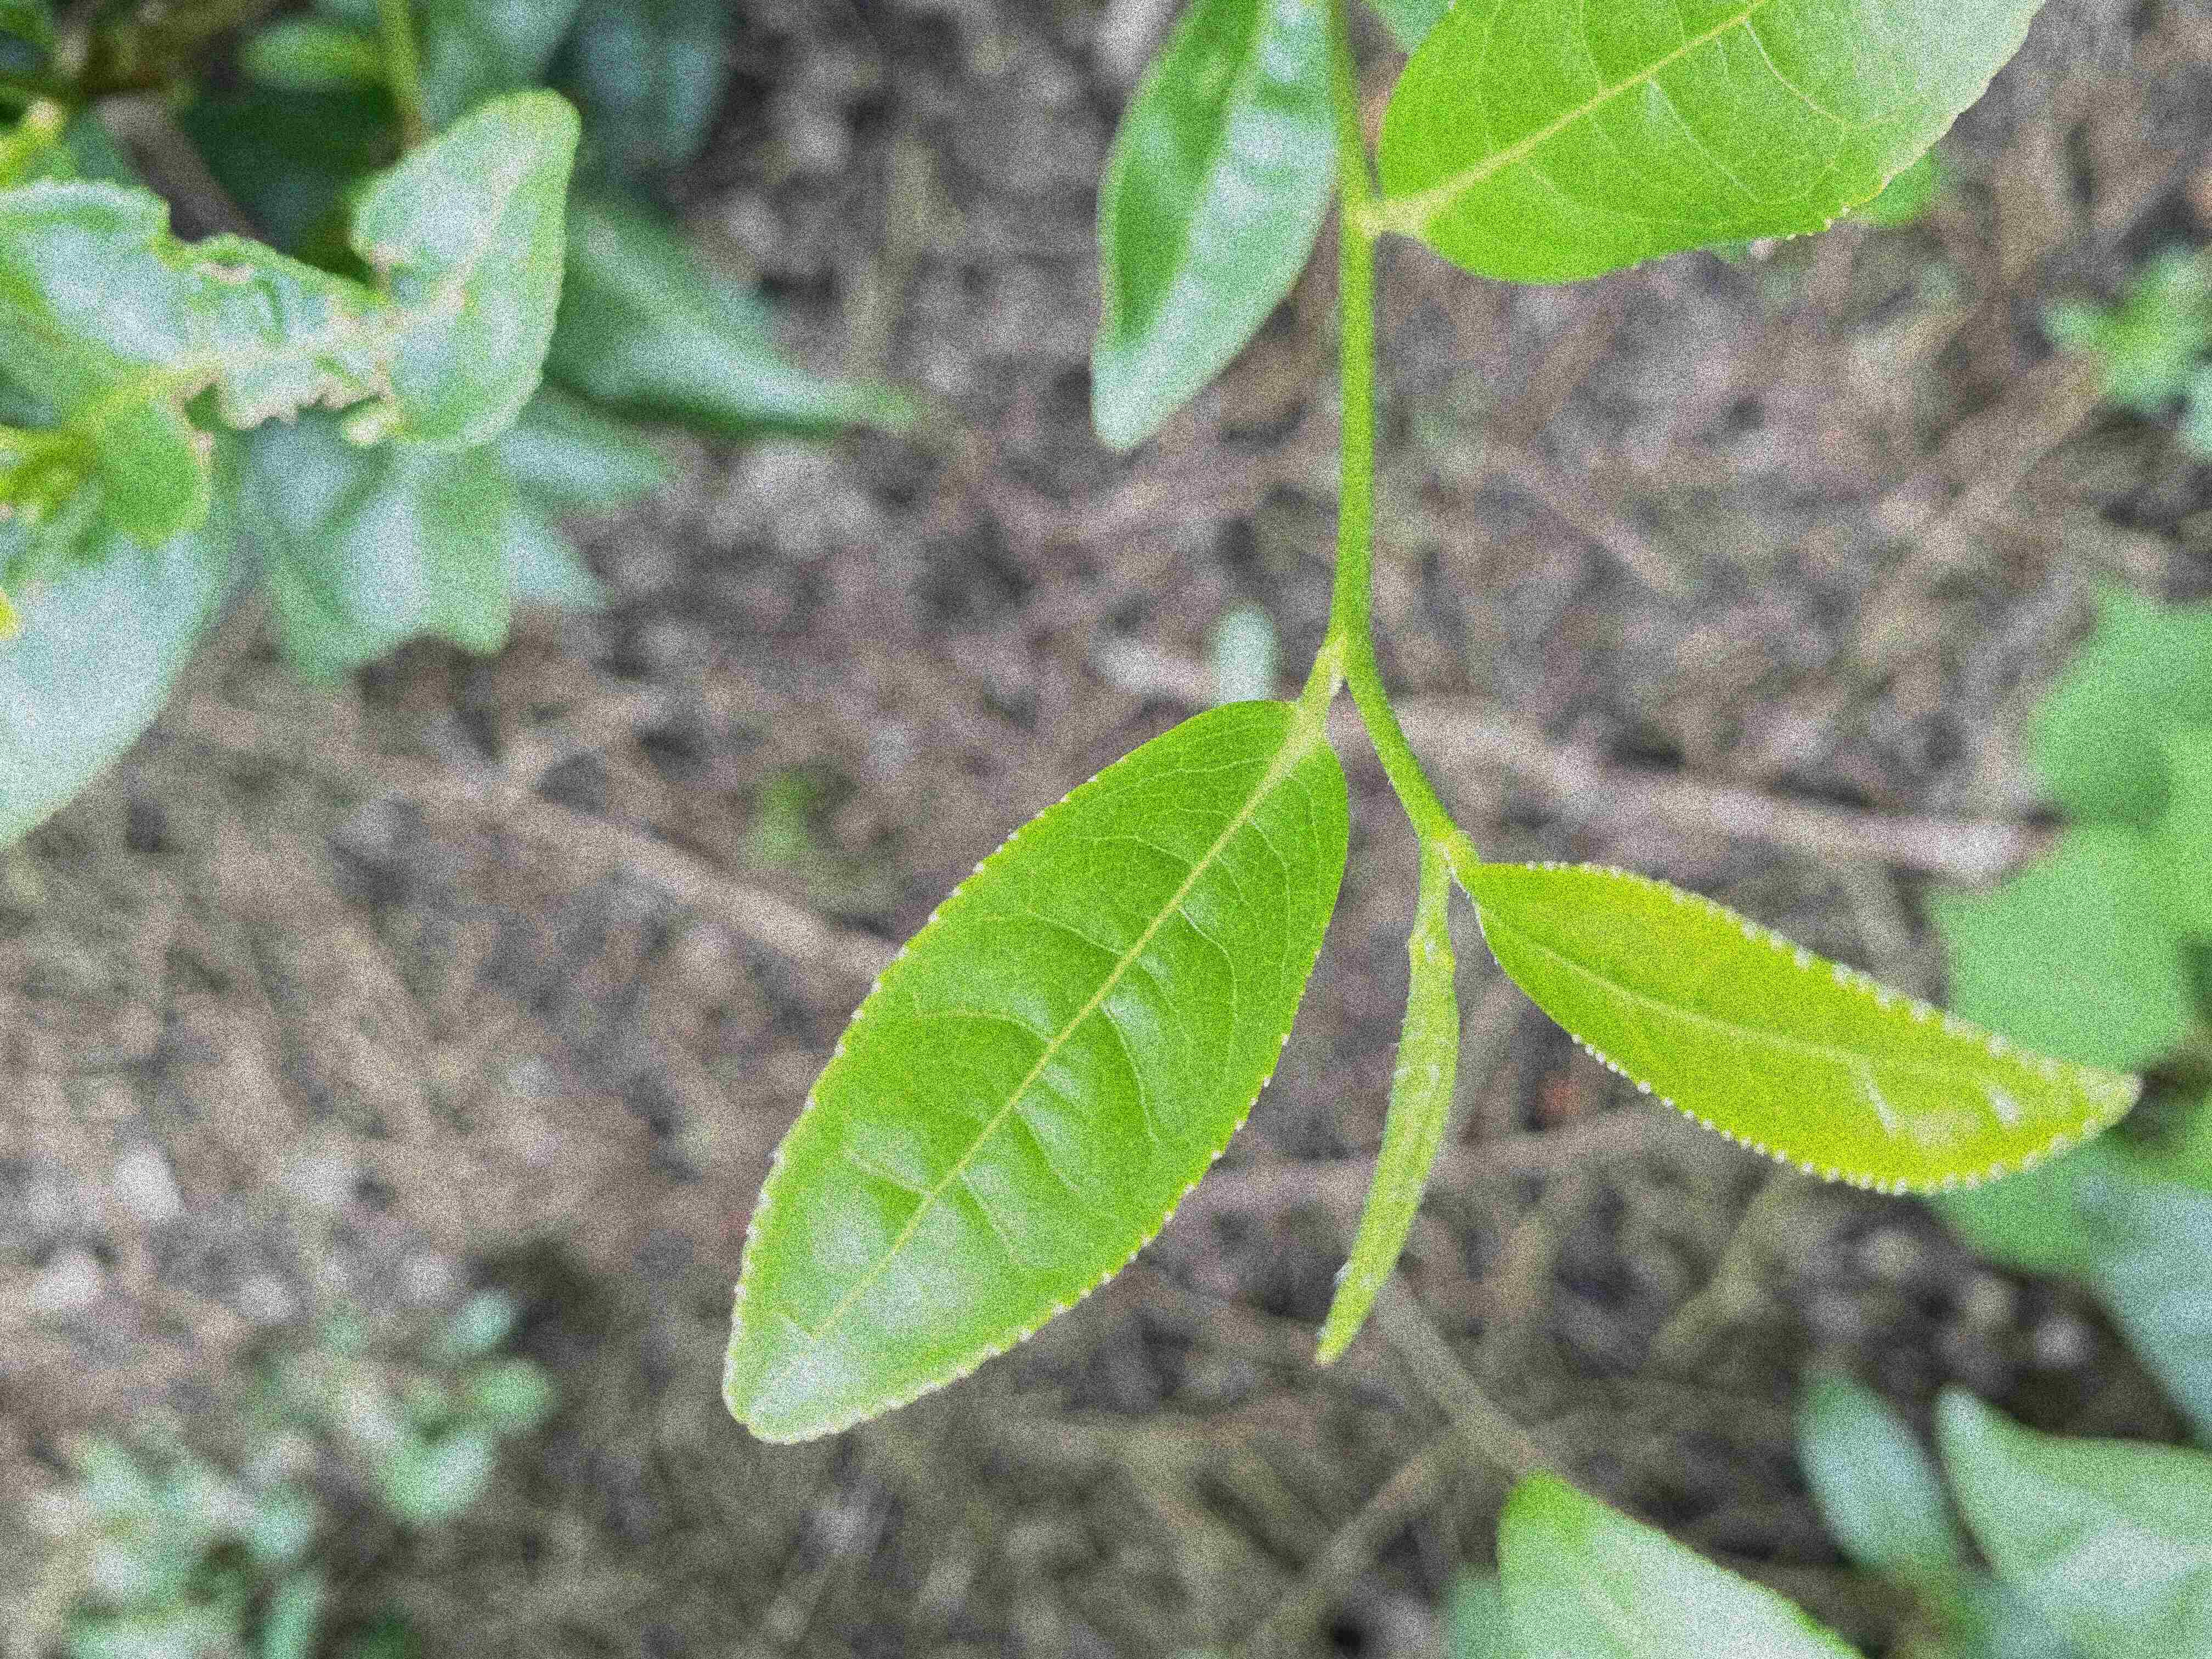chihuo_high: (5, 89, 583, 545)
healthy: (723, 697, 1355, 1443), (1468, 856, 2141, 1199), (1376, 2, 2047, 286)
